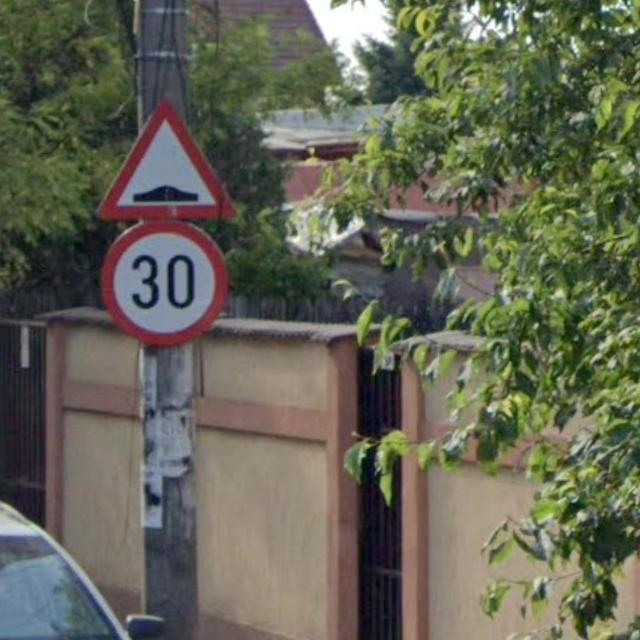forb_speed_over_30: (99, 220, 230, 348)
